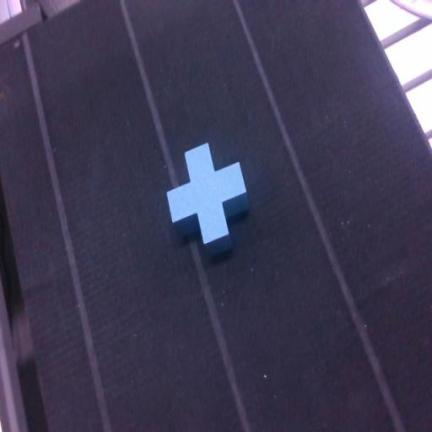cross: (168, 144, 248, 253)
